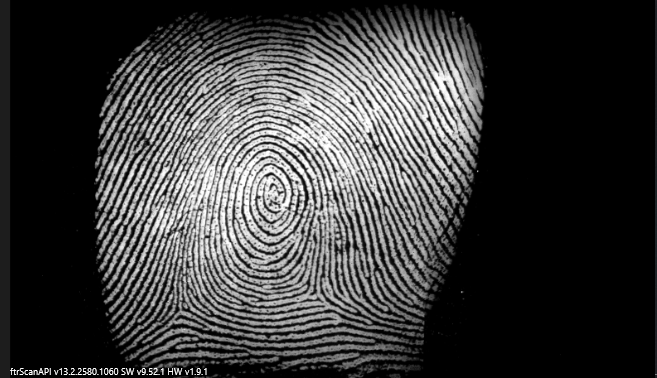deltas: (286, 261, 345, 319), (154, 280, 205, 331)
nucleo: (258, 161, 290, 216)
